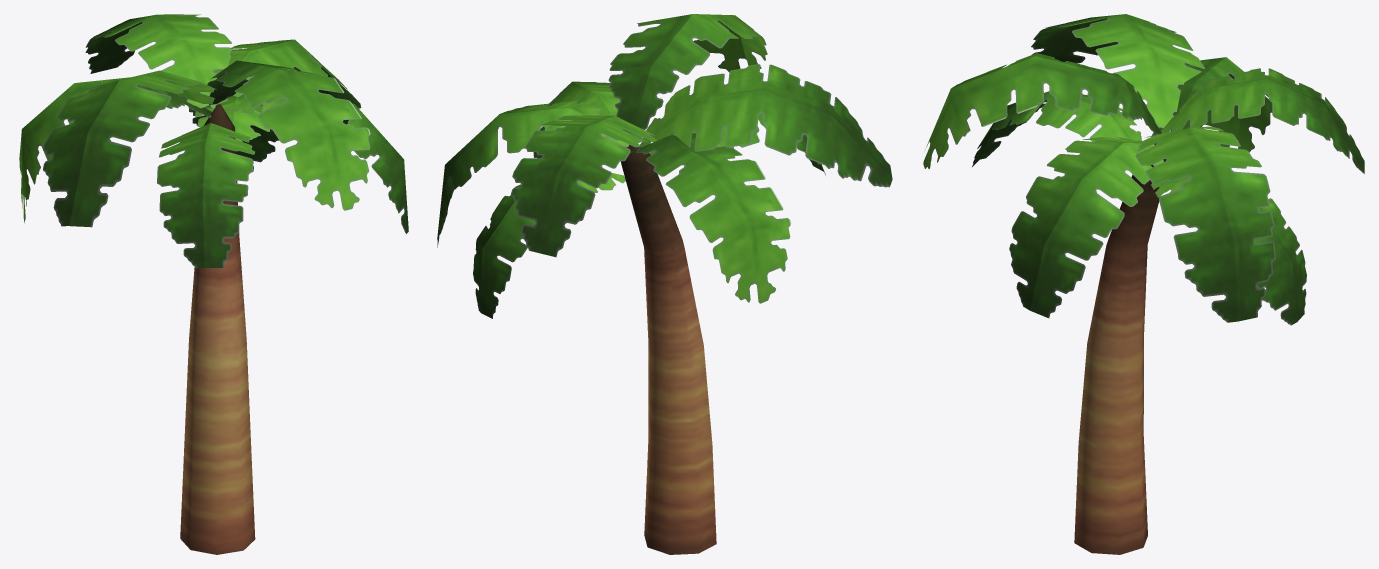
Rendered from PalmTree.fbx.
3 views of the same model, side by side, from view 1: azimuth 30°, elevation 25°; view 2: azimuth 150°, elevation 25°; view 3: azimuth 270°, elevation 25° (orthographic).
Parts seen in each view (by area): view 1: PalmTree1; view 2: PalmTree1; view 3: PalmTree1.
Boxes of the visible parts, <box> form: PalmTree1: <box>19,14,408,554</box>; PalmTree1: <box>437,14,892,554</box>; PalmTree1: <box>923,14,1364,554</box>.
Size of the model in its own units: 2.06 by 2.48 by 2.01.
